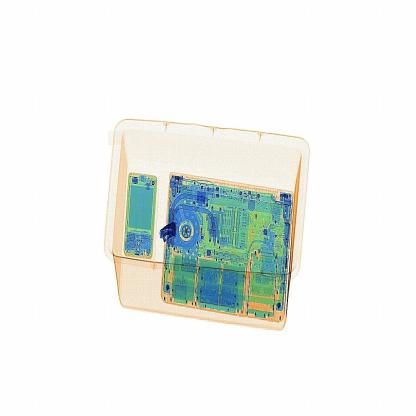knife: (157, 222, 177, 245)
